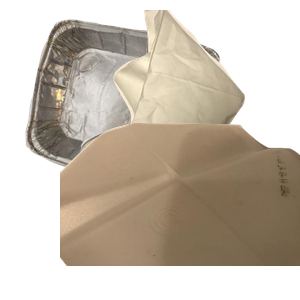glass: (61, 120, 287, 300)
metal: (23, 17, 236, 197)
plastic: (60, 120, 300, 300)
trash: (111, 10, 300, 190)
